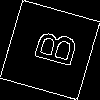B: (25, 24, 78, 70)
